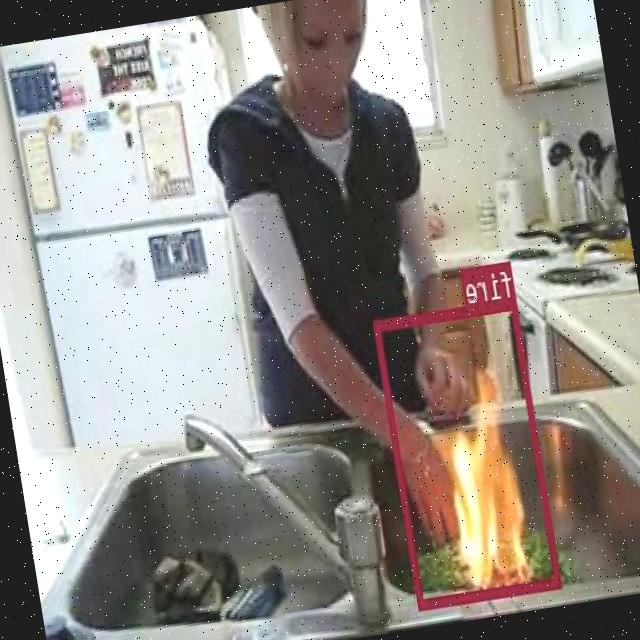fire: (374, 298, 562, 608)
